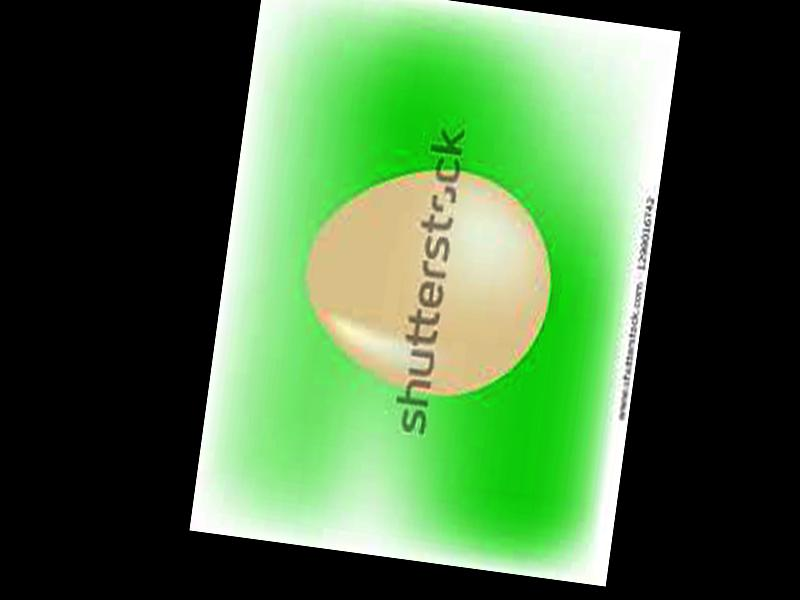Eggs: (292, 151, 563, 407)
